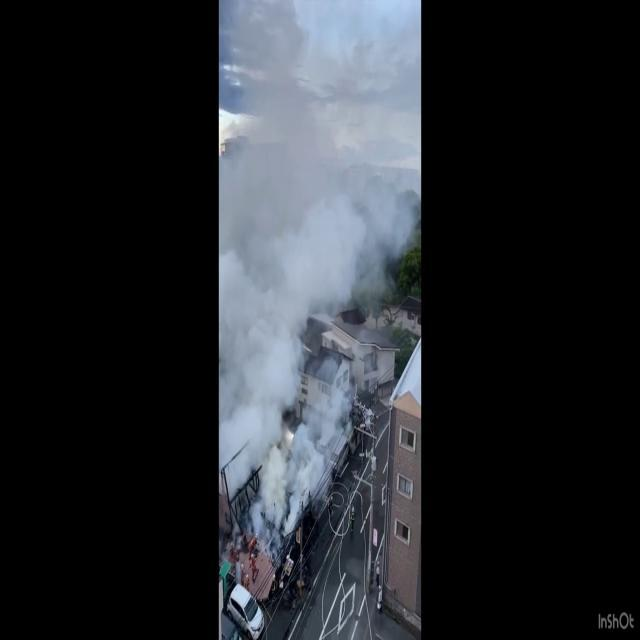Smoke: (219, 7, 420, 484)
